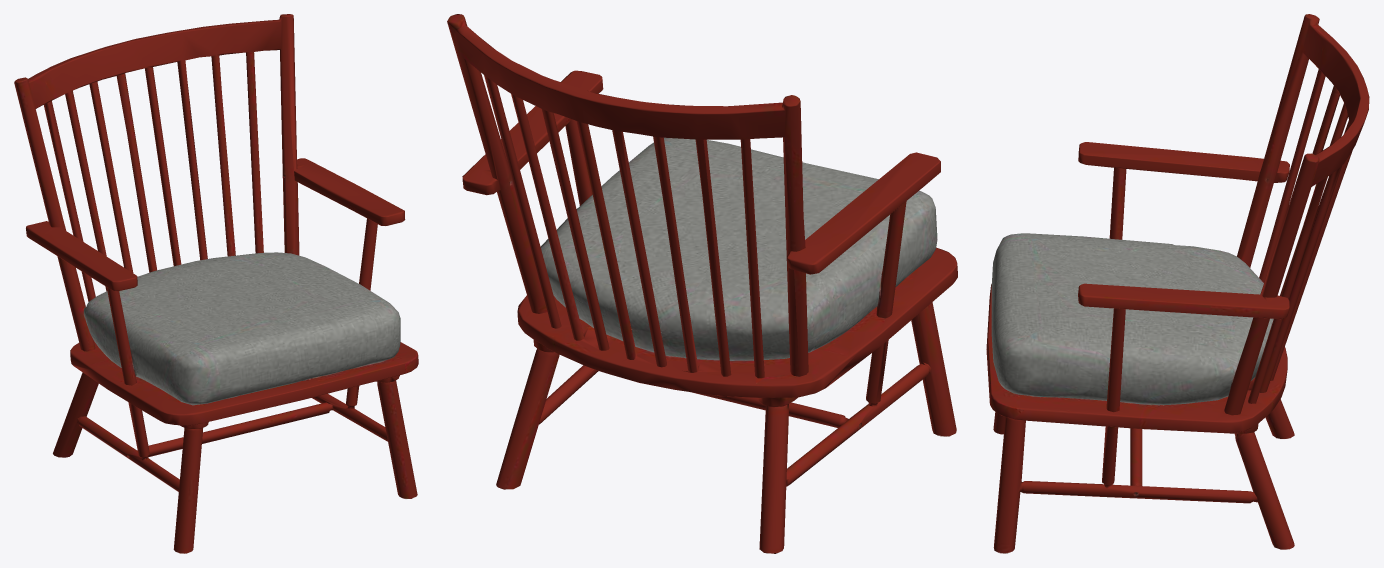
Rendered from 32 - PERSBOL Armchair - brown-redTibbleby beigegrey.glb.
3 views of the same model, side by side, from view 1: azimuth 30°, elevation 25°; view 2: azimuth 150°, elevation 25°; view 3: azimuth 270°, elevation 25° (orthographic). The views are drawn at different scales.
Parts seen in each view (by area): view 1: ProcessedMeshNode; view 2: ProcessedMeshNode; view 3: ProcessedMeshNode.
Boxes of the visible parts, bbox=[...] form: ProcessedMeshNode: bbox=[14, 14, 418, 553]; ProcessedMeshNode: bbox=[447, 14, 957, 553]; ProcessedMeshNode: bbox=[986, 14, 1369, 553].
Size of the model in its own units: 0.6928 by 0.847 by 0.723.
Materials: 1 (1 with a texture image).
